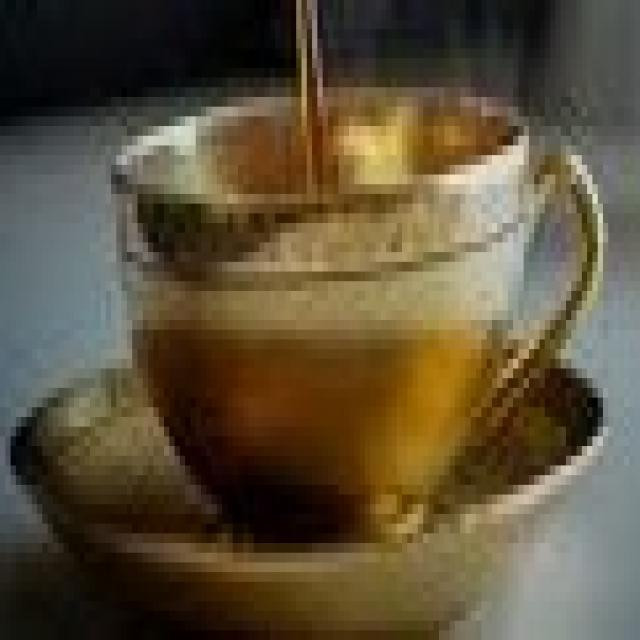taza: (100, 62, 614, 545)
